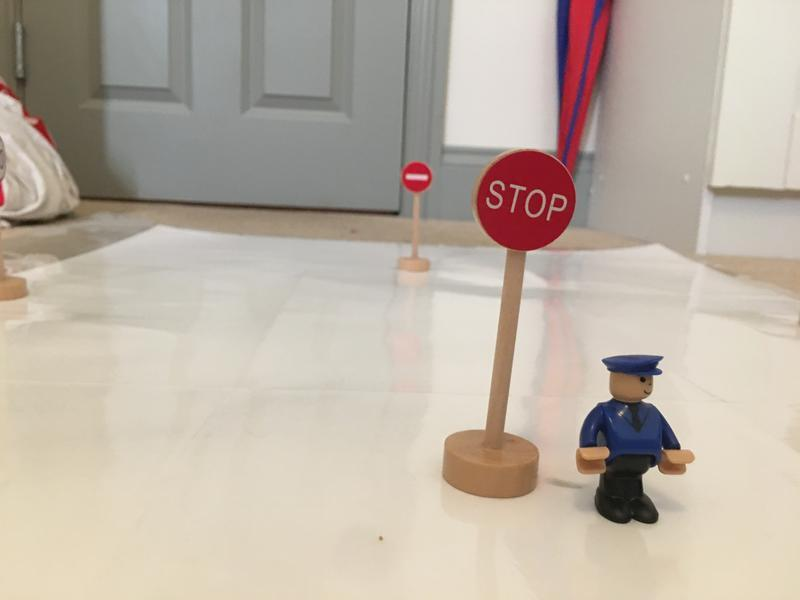Traffic_Sign_No_Entry: (403, 161, 429, 193)
Traffic_Sign_Stop: (475, 148, 575, 252)
person: (575, 353, 696, 527)
